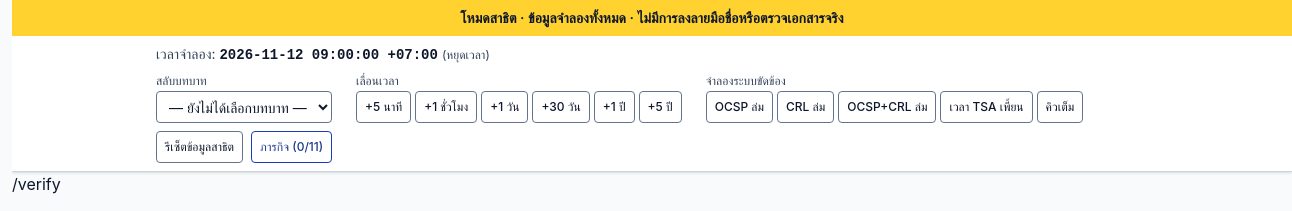
Test: clock › advance button PT5M sends exactly that duration
Click the button "+5 นาที" at x=384, y=107, box [356,91,411,123]
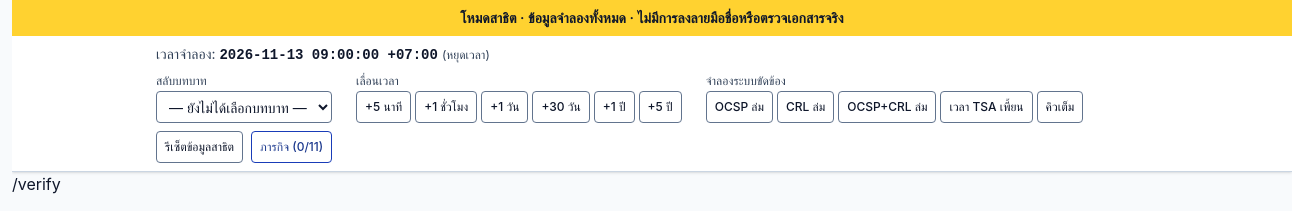
expect the text "2026-11-13 09:00:00 +07:00" is shown: met, box [220,47,438,63]
